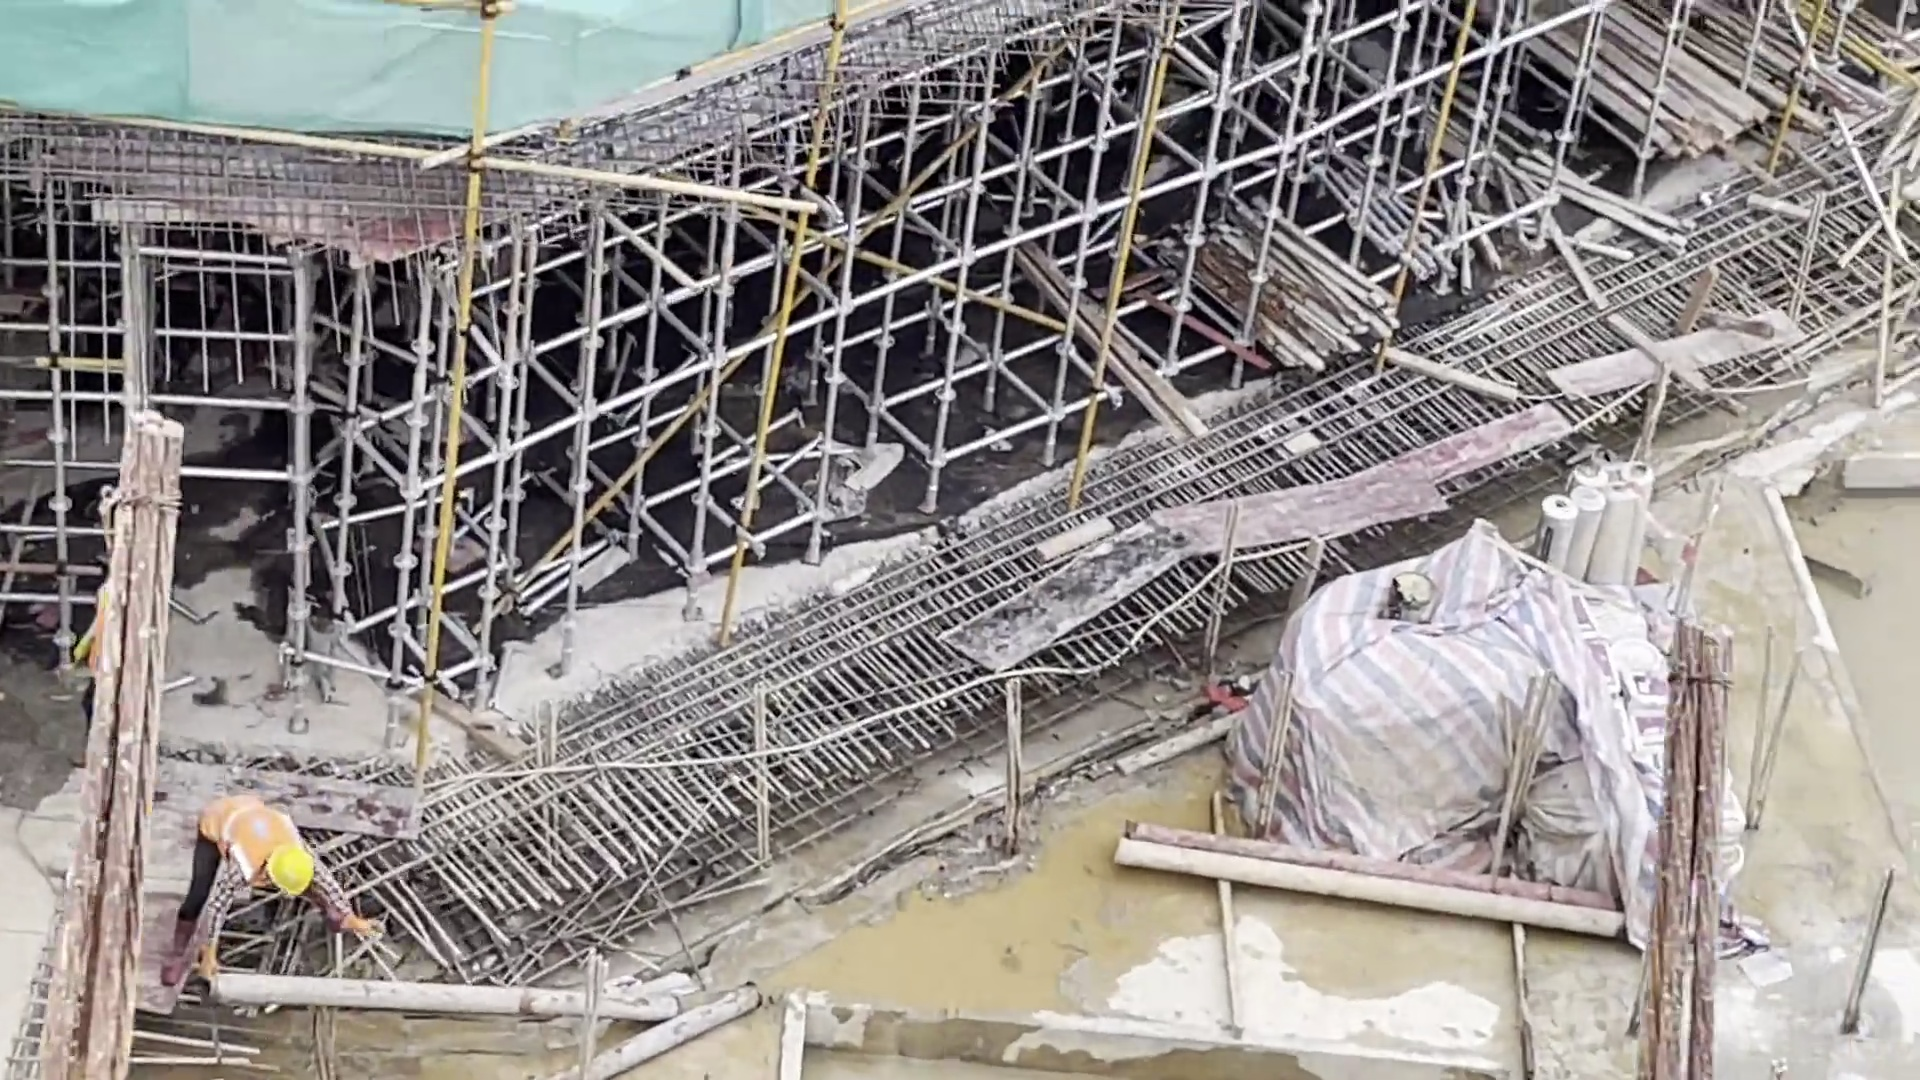helmet: (266, 845, 310, 897)
person: (163, 790, 375, 956)
vest: (197, 794, 310, 871)
wood: (1137, 165, 1406, 371), (1504, 1, 1736, 186)
